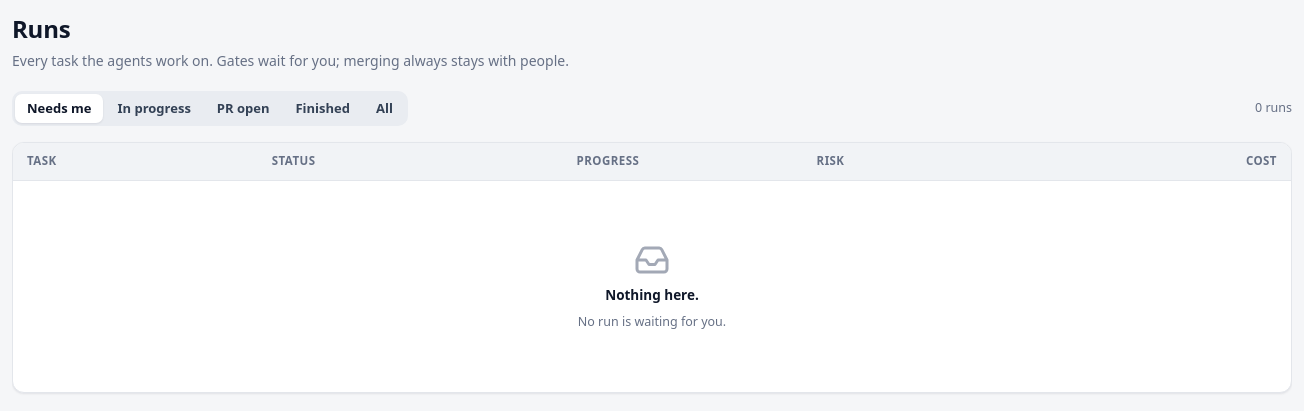
Test: RunsPage › does not let a slow response for the previous filter replace the current list
The image size is (1304, 411).
Click the tab "All" at [384, 109], box [364,94,405,123]
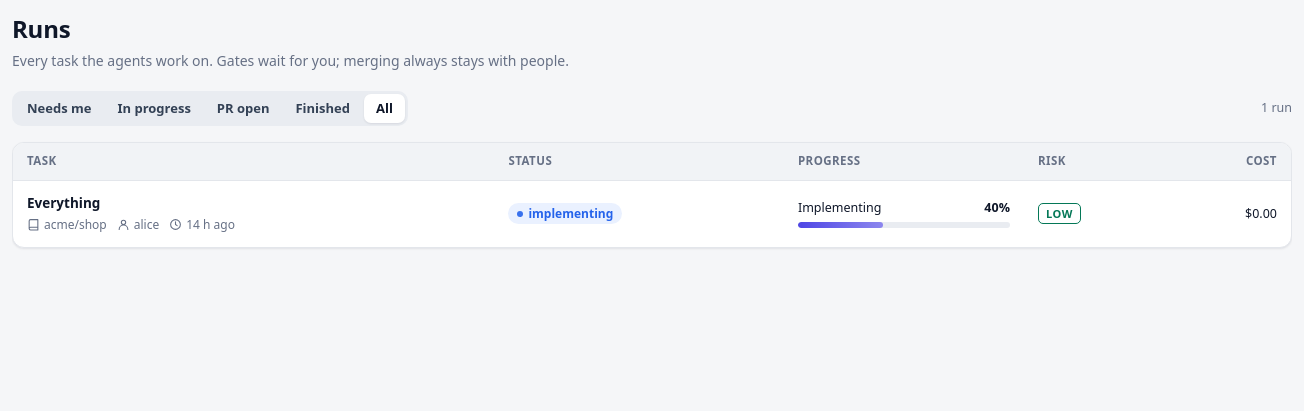
Now the text "Everything" is shown, box [27,194,100,212]
